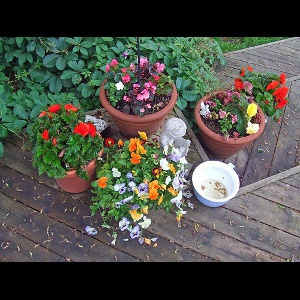flowerpot: (99, 69, 179, 142), (195, 91, 266, 161), (39, 131, 103, 195)
